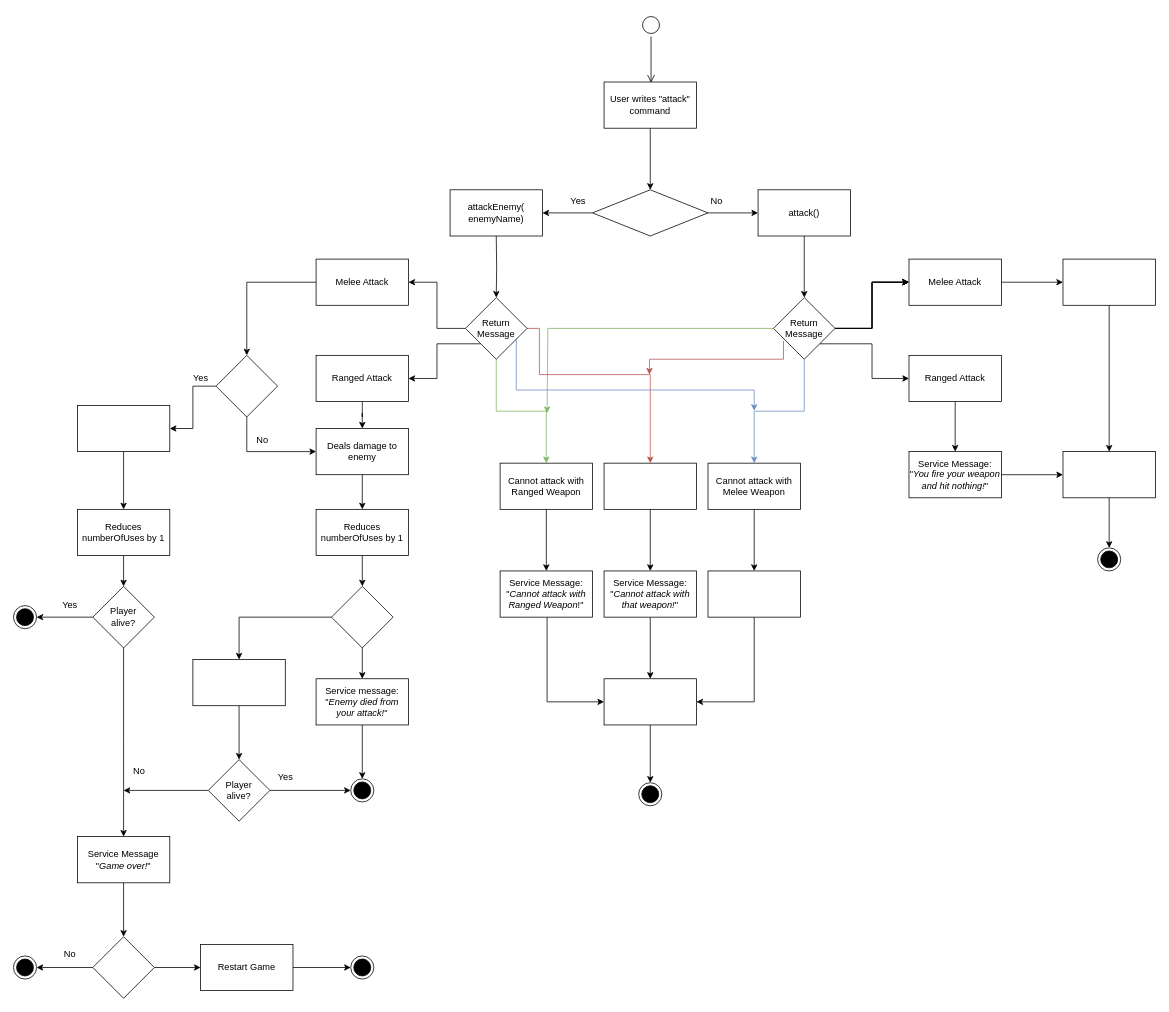
This 1169x1012 diagram has some shape labels left out. The shapes that lost their labels are listed below. From the top down, each one's box as (x1, y1, x2, y2) in pixels, then its label:
(592, 189, 708, 236): Has enemy name
(1062, 258, 1155, 305): Service Message: " You swing your weapon and hit nothing! "
(215, 355, 278, 417): Trap?
(77, 405, 170, 452): Destroys trap but also takes damage from trap
(603, 462, 696, 509): Cannot attack with that weapon
(1062, 451, 1155, 498): Reduce numberOfUses by 1
(707, 570, 800, 617): Service Message: " Cannot attack with Melee Weapon! "
(331, 586, 393, 648): Enemy alive?
(192, 659, 285, 706): Enemy attacks Player
(603, 678, 696, 725): Nothing happens
(92, 936, 154, 998): Try again?
